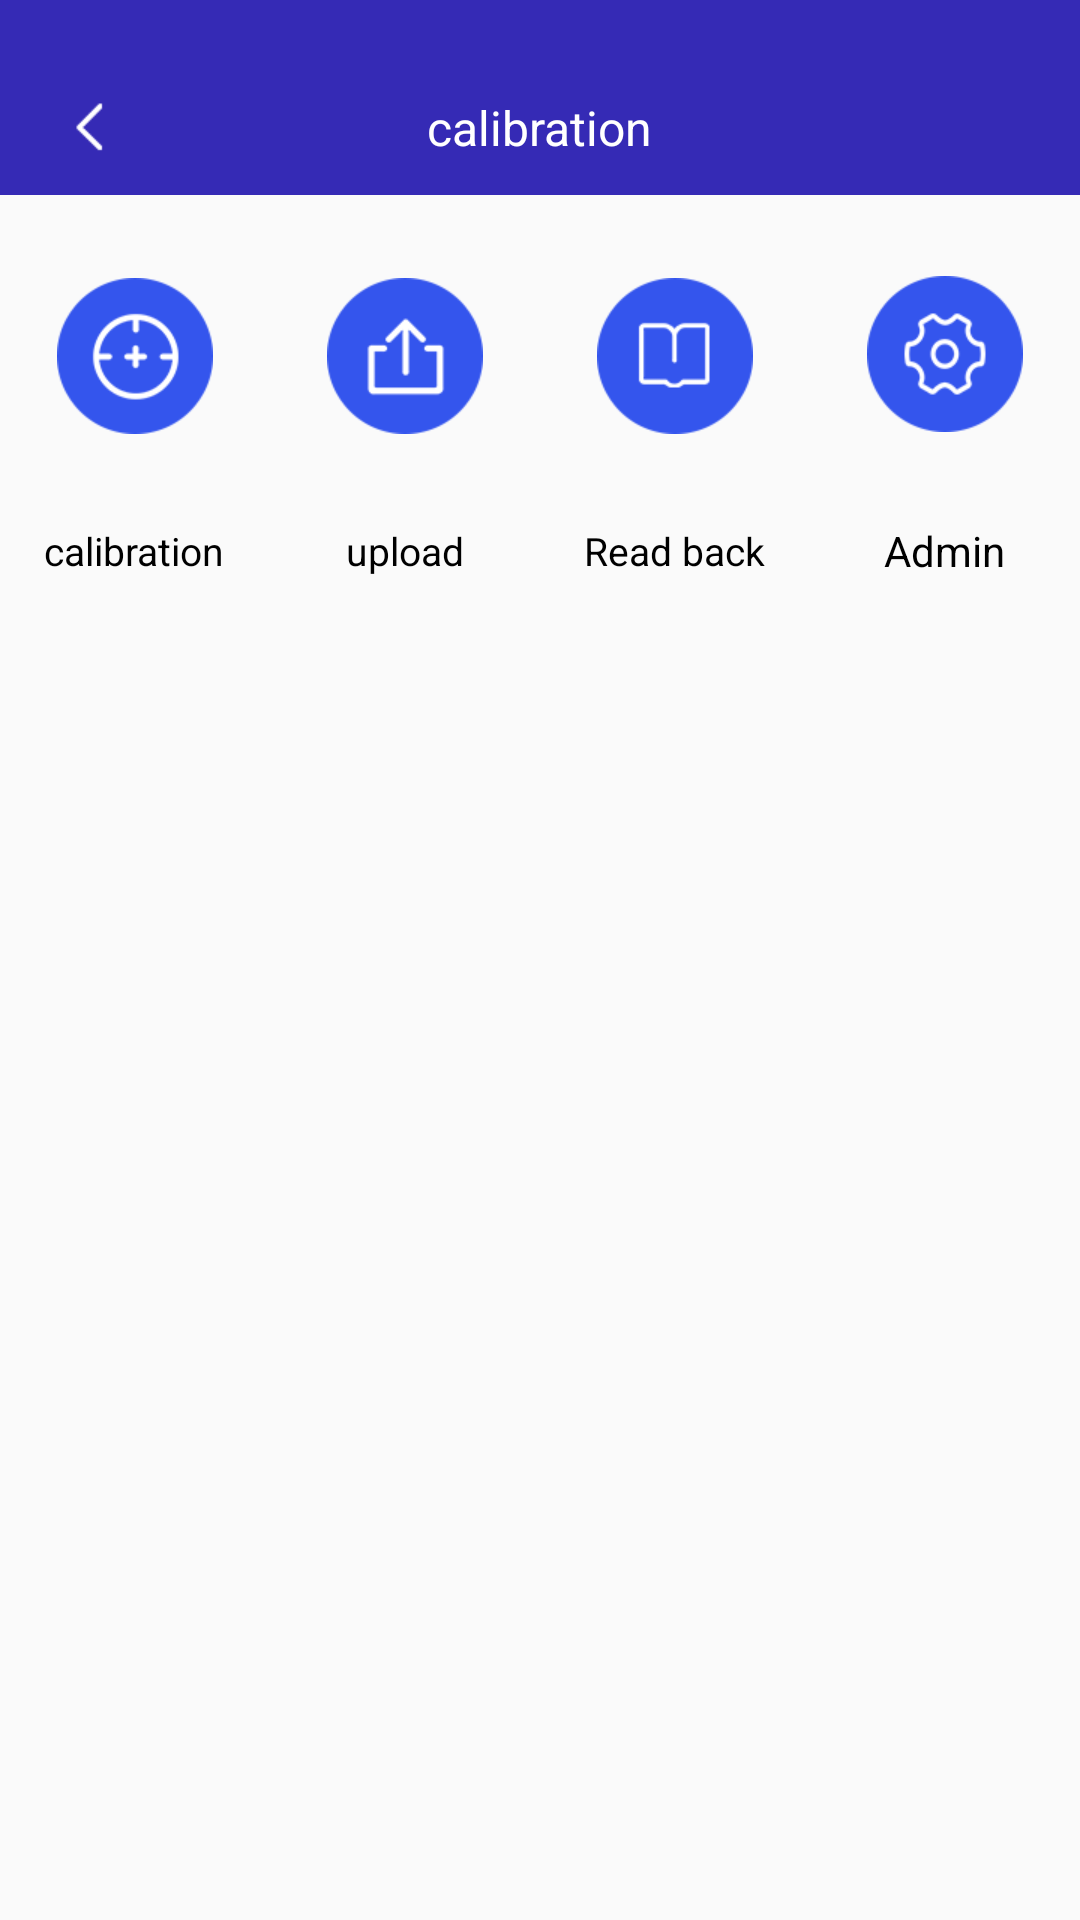

Icons on this 1080px×1920px Android screen, each with the point to tap as point (x, y):
back: point (89, 127)
